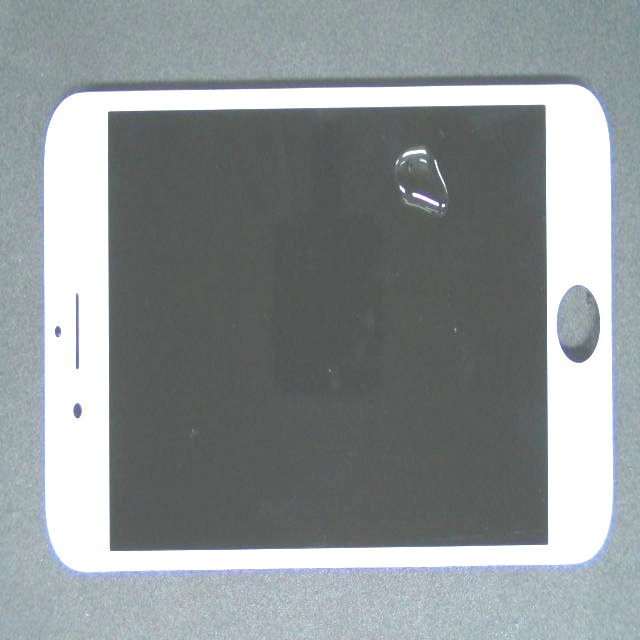oil: (226, 116, 640, 319)
